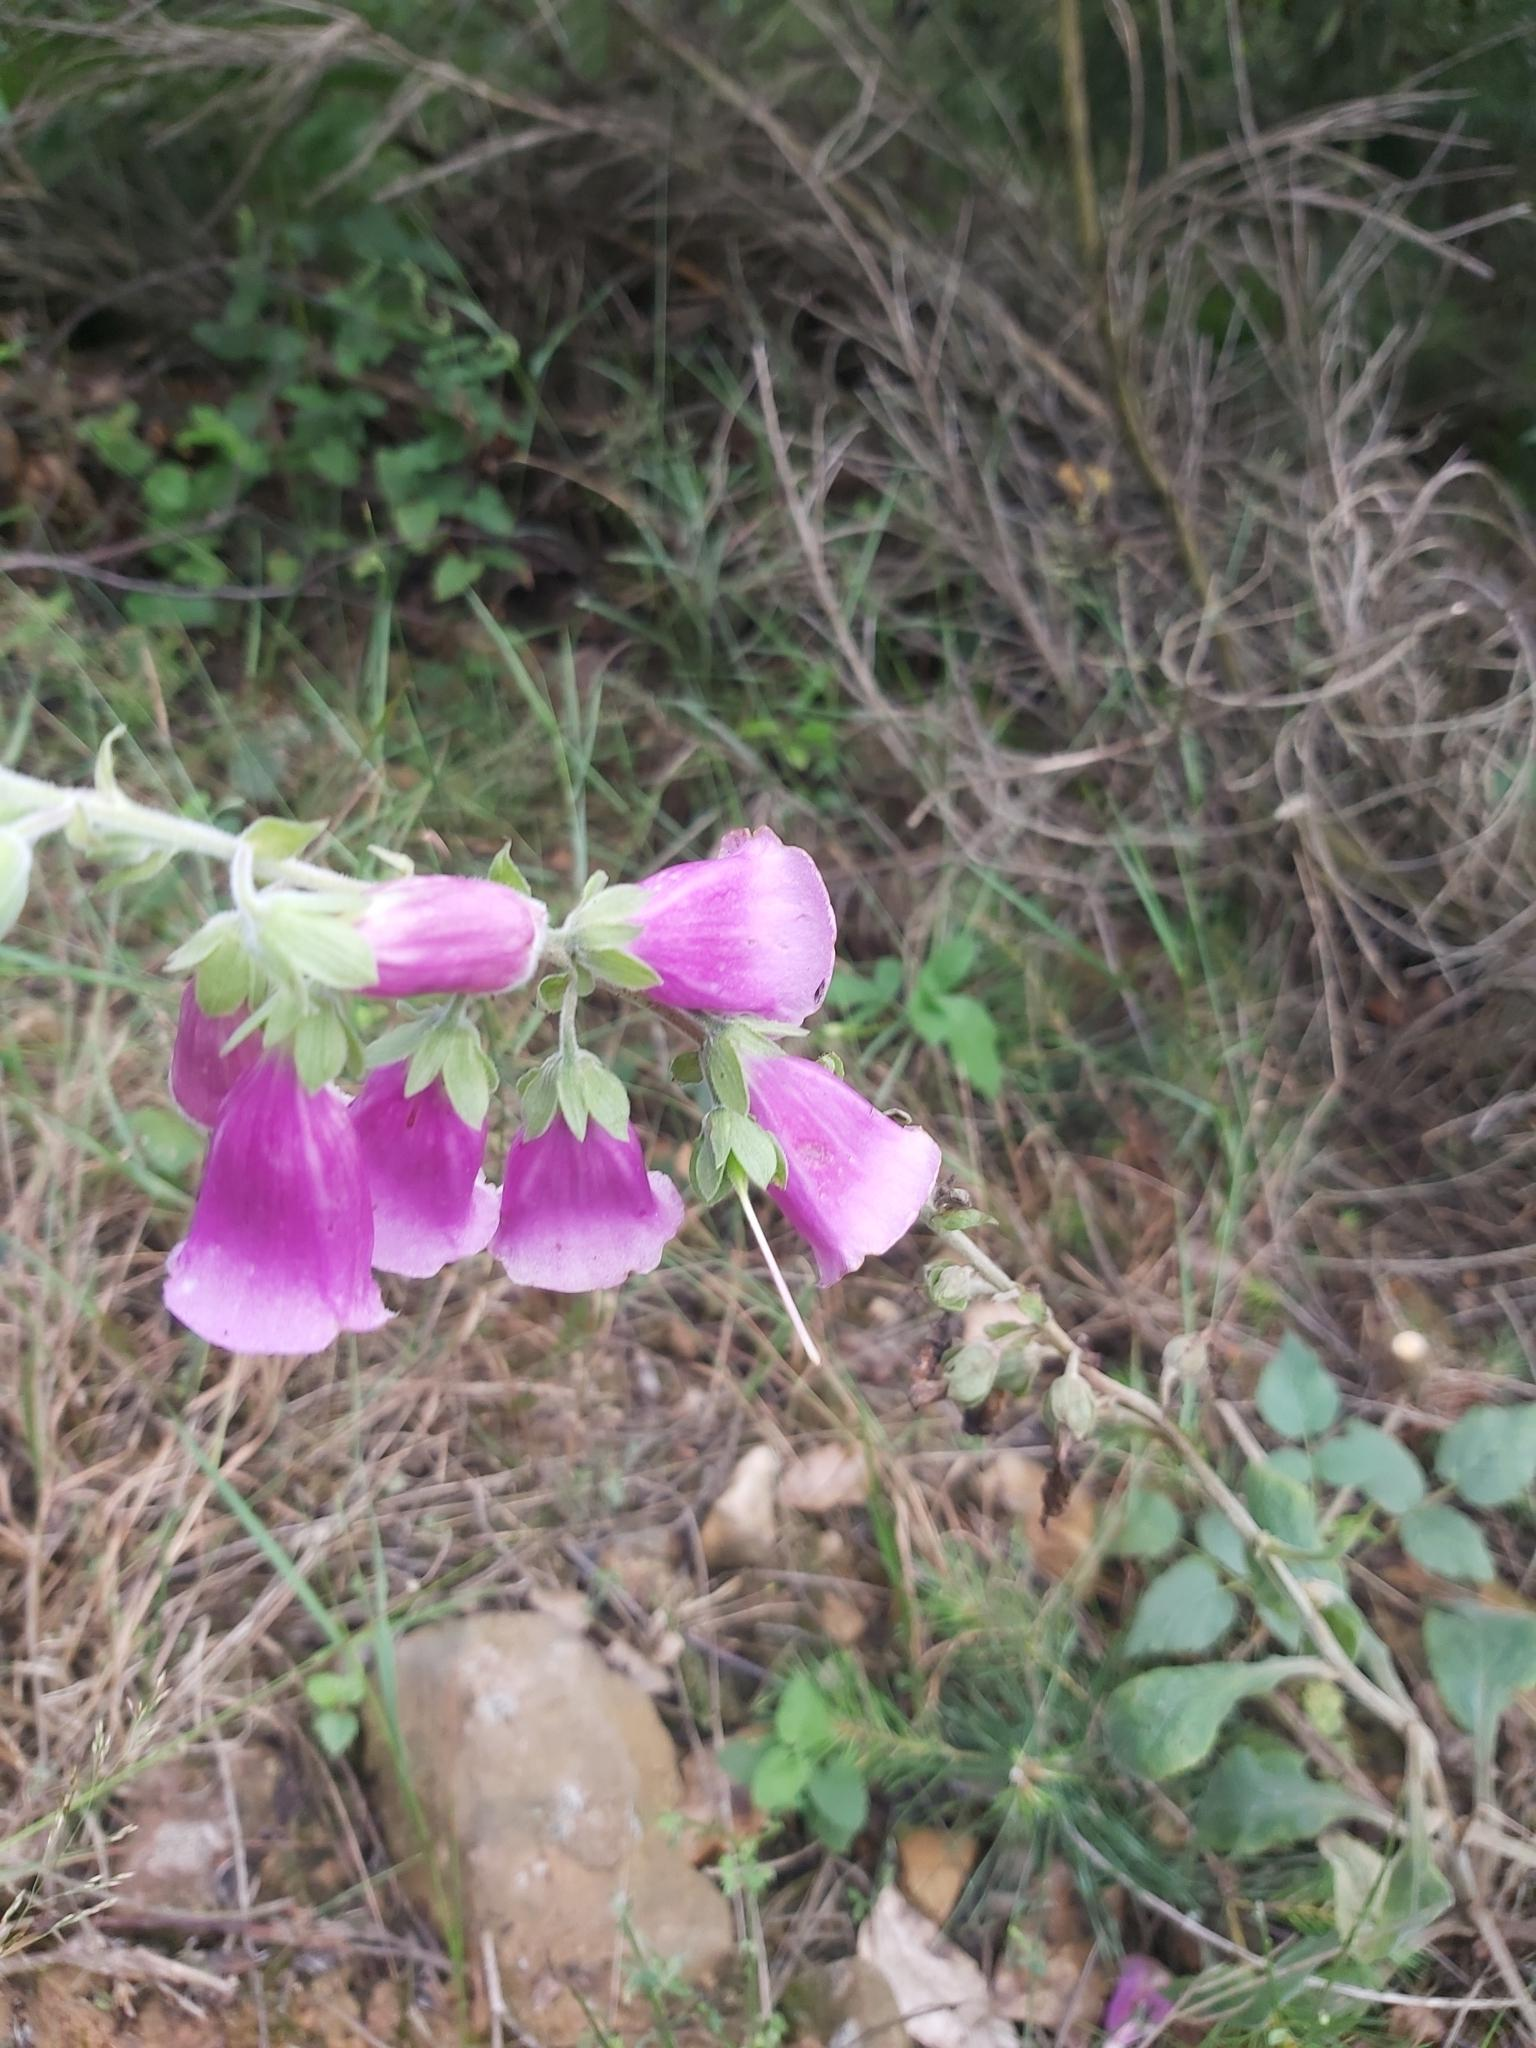Digitalis L: (0, 739, 970, 1334)
